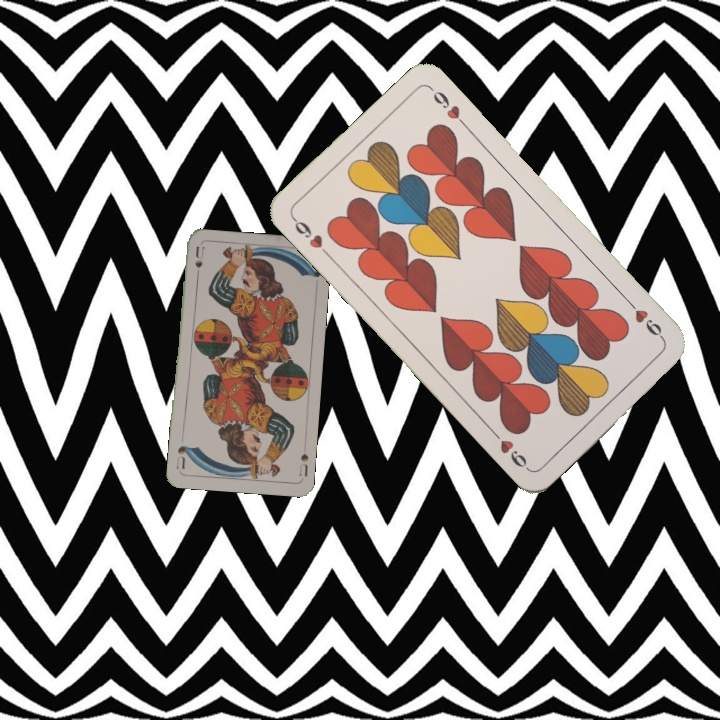H9: (288, 213, 333, 260), (623, 296, 667, 344)
SU: (295, 440, 311, 479), (191, 243, 206, 284)
